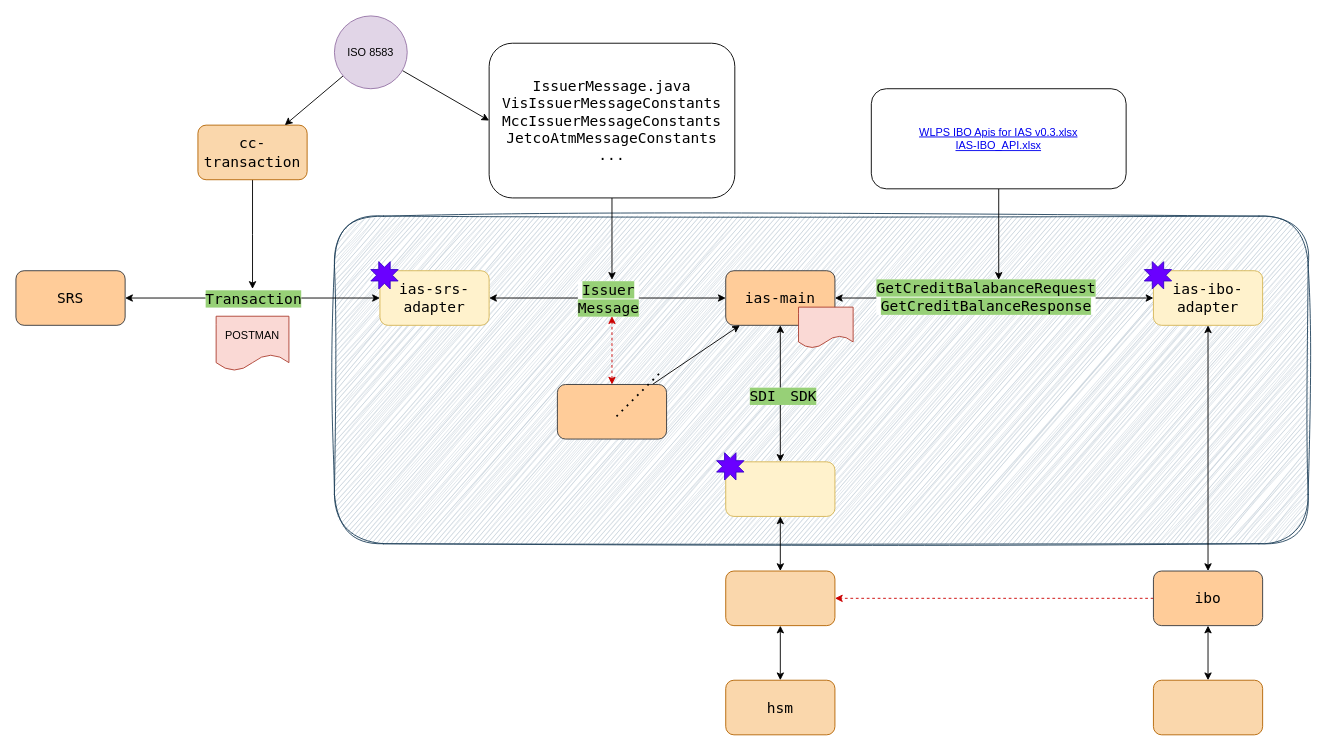
This 1324x751 diagram has some shape labels left out. Here are the shapes that lost their labels. From the top down, the box of each, then its label:
(798, 306, 853, 348): Base ias
(556, 384, 667, 439): ias-app
(725, 461, 835, 516): ias-sdi-adapter
(725, 570, 835, 626): sdi
(1153, 679, 1263, 735): cc
